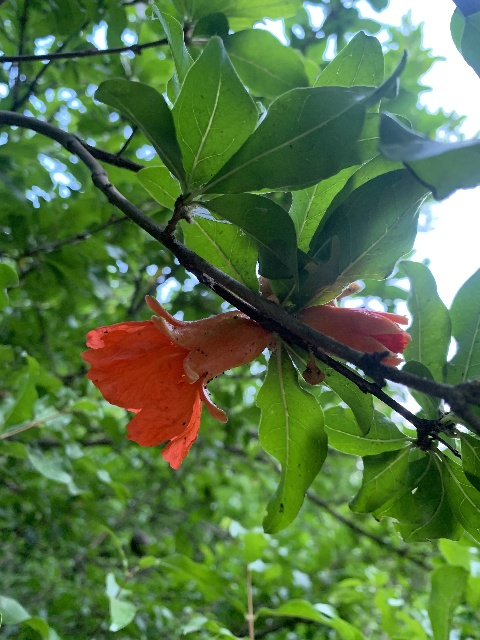flower: (80, 293, 272, 469), (297, 302, 410, 364)
